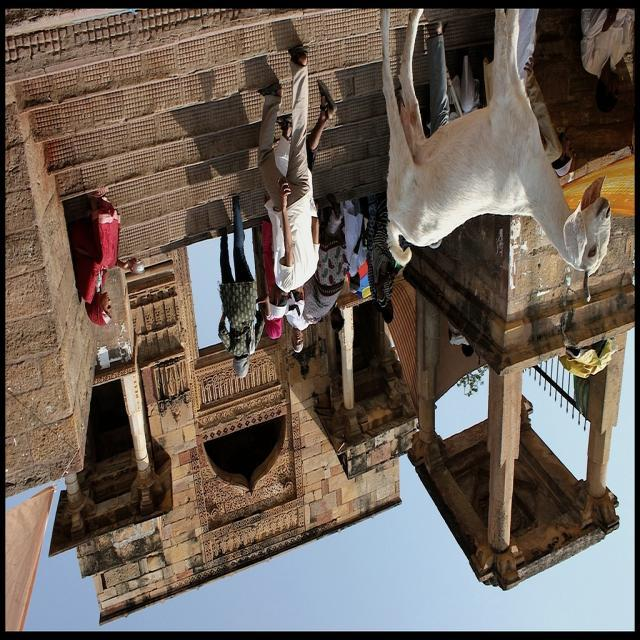Goat: (380, 8, 613, 305)
